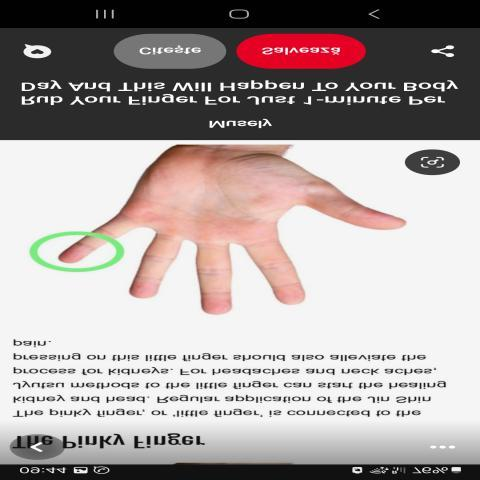Hands: (22, 147, 450, 339)
